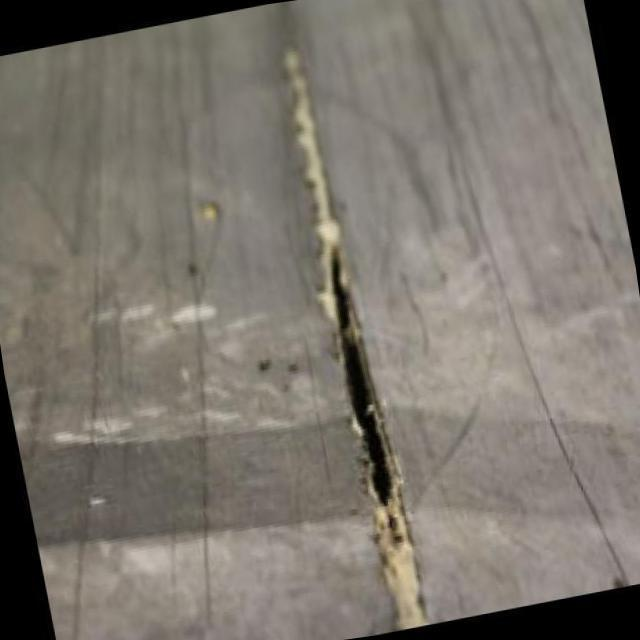Tear: (314, 236, 414, 530)
